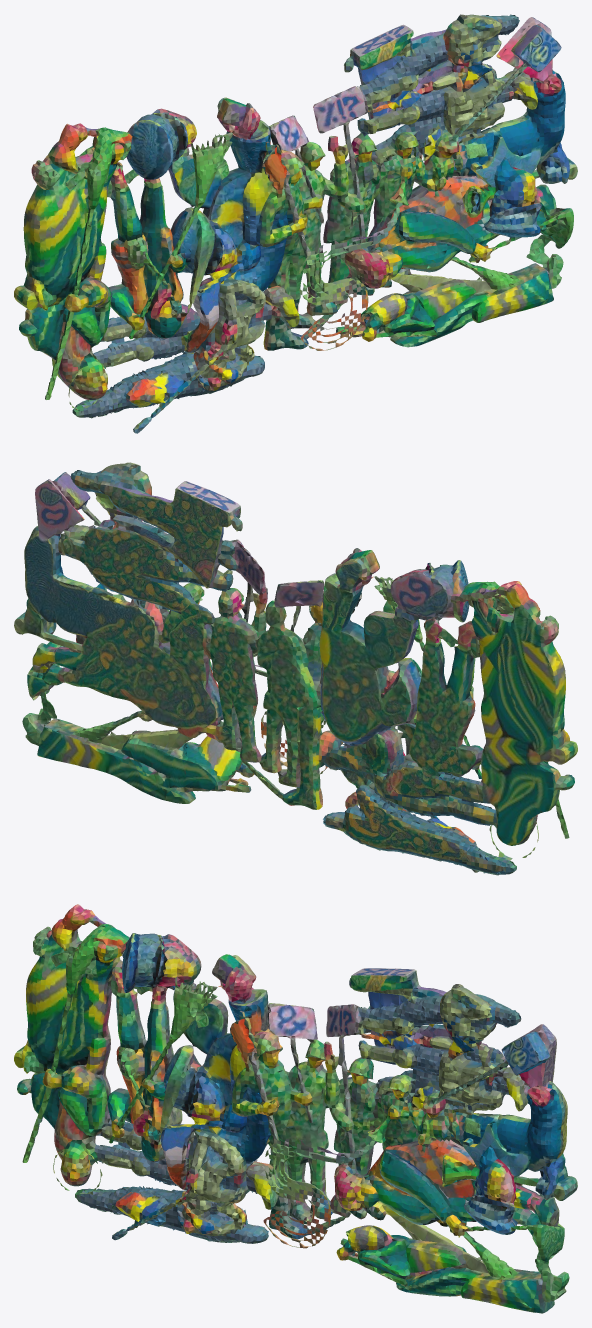
Rendered from combined_BB.glb.
The picture shows the model from 3 angles, top to bottom: view 1: azimuth 30°, elevation 25°; view 2: azimuth 150°, elevation 25°; view 3: azimuth 330°, elevation 25°; orthographic projection.
Visible parts, largest first — view 1: irloBB; view 2: irloBB; view 3: irloBB.
Boxes of the visible parts, box(x1,y1,x2,y2) form: irloBB: box(14, 14, 577, 433); irloBB: box(14, 462, 577, 875); irloBB: box(14, 904, 577, 1313).
Size of the model in its own units: 0.9995 by 0.5734 by 0.102.
Materials: 1 (1 with a texture image).
